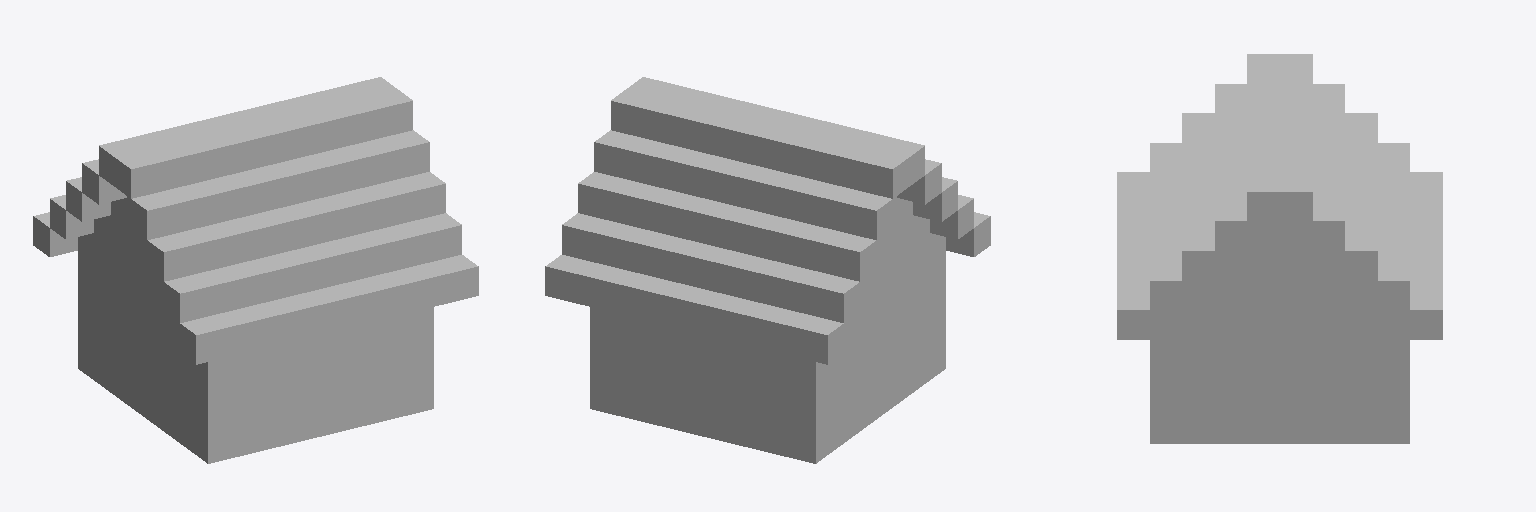
File: Haus.obj
3 renders of one model, left to right at view 1: azimuth 30°, elevation 25°; view 2: azimuth 150°, elevation 25°; view 3: azimuth 270°, elevation 25°, orthographic.
Visible parts, largest first — view 1: object 1; view 2: object 1; view 3: object 1.
Part boxes in pixels (bbox=[...]): object 1: bbox=[33, 77, 478, 463]; object 1: bbox=[545, 77, 990, 463]; object 1: bbox=[1117, 54, 1442, 443].
Bounding box in the file's own units: 1 × 0.9 × 1.